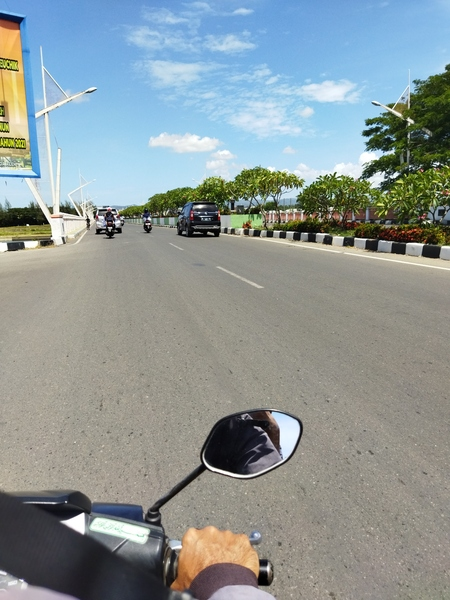car: (174, 199, 223, 240), (92, 206, 123, 237)
motorcycle: (140, 214, 157, 235), (102, 219, 116, 241)
